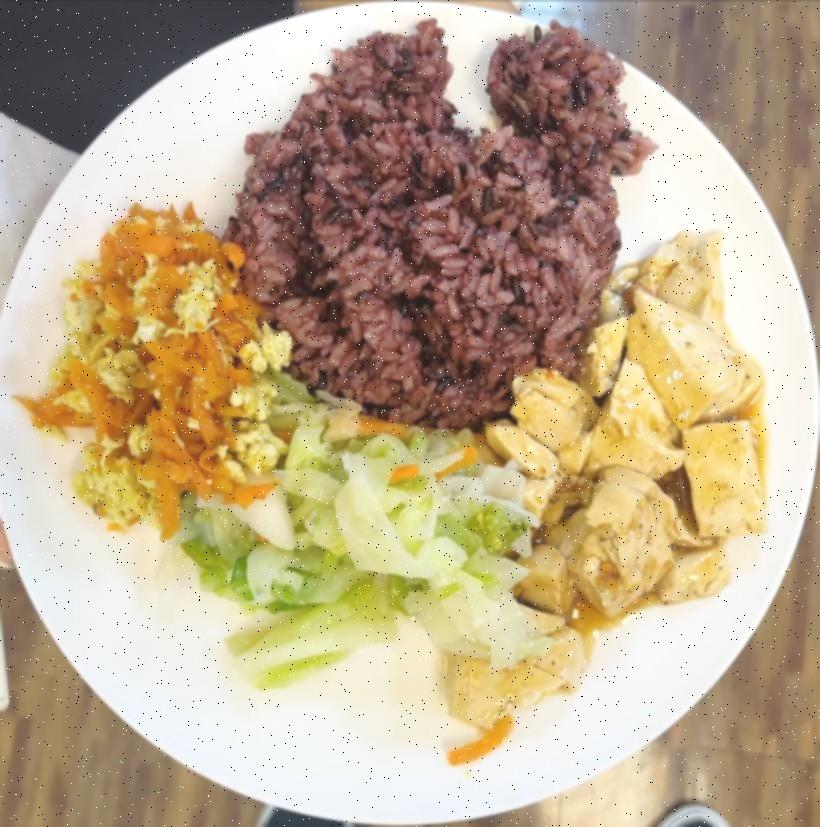big fried chicken leg: (7, 9, 810, 808)
braised fish: (223, 22, 640, 430)
braised fish fillet: (494, 240, 770, 626), (204, 382, 536, 626), (35, 208, 284, 510)
